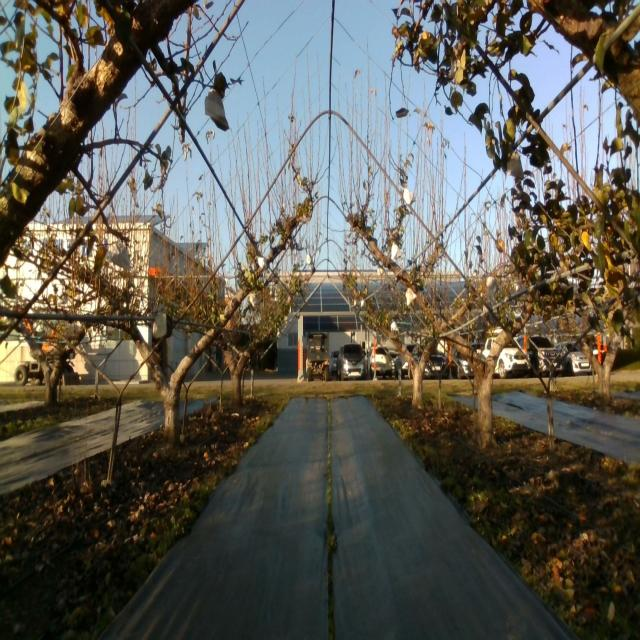pearbags: (205, 91, 230, 132), (105, 236, 131, 270), (506, 151, 523, 180), (486, 276, 498, 298), (404, 188, 416, 206)
